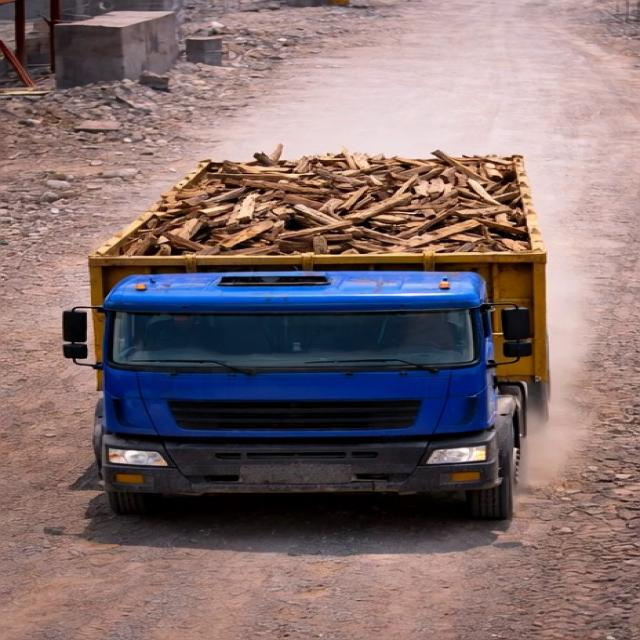Box: (85, 155, 548, 269)
Truck: (57, 127, 557, 525)
